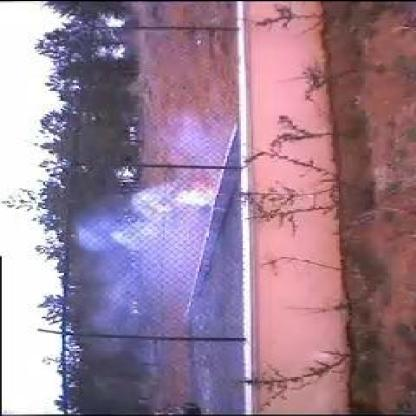-: (75, 164, 220, 353)
